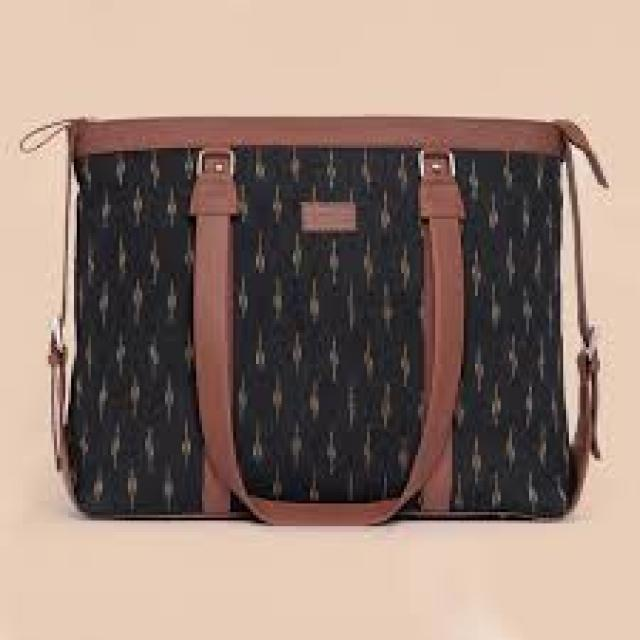handbag: (20, 114, 606, 526)
